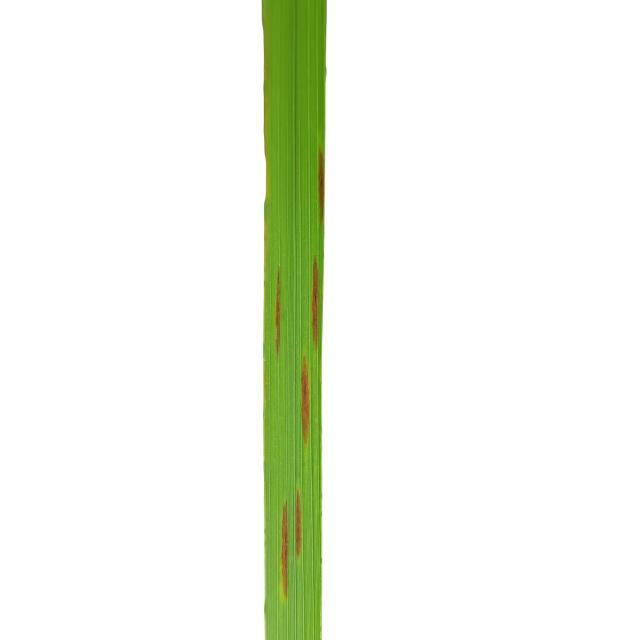Narrow brown: (113, 0, 392, 640)
